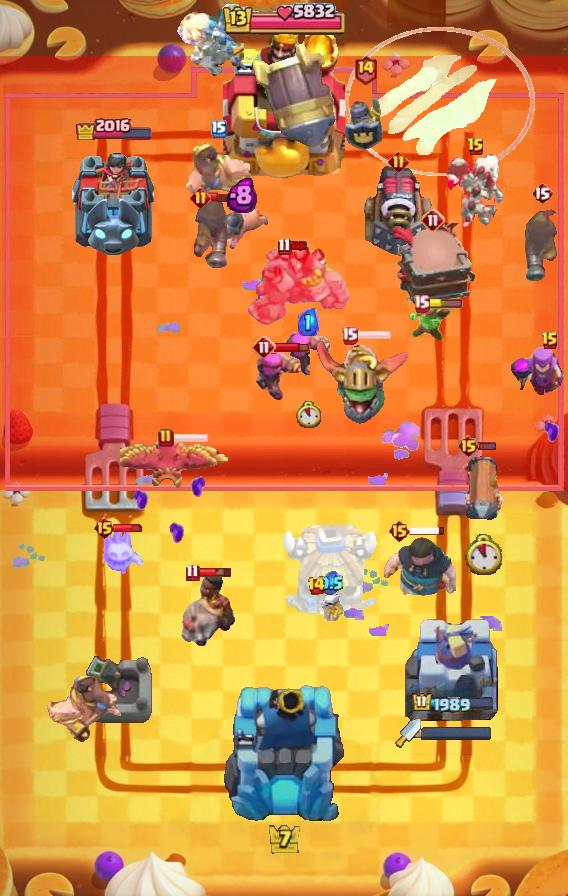bar: (405, 611, 501, 731)
battle-healer: (461, 445, 505, 529)
bomb-tower: (523, 205, 561, 283), (193, 194, 231, 270)
cannoneer-tower: (243, 243, 349, 327)
clock: (221, 0, 347, 40)
dart-goblin: (392, 223, 477, 305)
electro-spirit: (227, 177, 257, 213), (318, 572, 343, 597), (297, 308, 318, 336)
elite-barbarian: (176, 571, 236, 647)
elixir: (466, 534, 503, 575), (295, 401, 320, 428)
emote: (171, 432, 209, 444), (356, 329, 393, 341), (208, 191, 244, 203), (275, 341, 310, 353), (199, 566, 234, 578), (409, 525, 446, 536), (427, 299, 463, 309), (113, 523, 145, 533), (290, 240, 310, 252), (478, 441, 498, 451)
executioner: (216, 202, 268, 252)
freeze: (44, 676, 122, 748), (182, 141, 256, 205)
giant-snowball: (407, 300, 455, 344)
golem: (358, 166, 438, 258)
heal-spirit: (316, 591, 344, 623)
ice-wizard: (345, 27, 535, 176)
king-tower: (223, 27, 345, 181), (221, 682, 347, 826)
king-tower-bar: (421, 726, 493, 740)
mini-pekka: (174, 0, 244, 82), (446, 151, 506, 227)
mirror: (97, 528, 145, 576)
mother-witch: (120, 434, 232, 504)
night-witch: (315, 338, 411, 426)
prince: (280, 525, 382, 621)
princess: (344, 88, 386, 152)
queen-tower: (71, 144, 157, 255)
rascal-girl: (508, 346, 568, 400)
royal-hog: (378, 535, 456, 603)
selected: (74, 115, 154, 140), (411, 692, 495, 715)
text: (353, 55, 378, 85), (421, 208, 445, 232), (252, 335, 276, 359), (457, 434, 480, 458), (93, 516, 116, 540), (388, 519, 411, 543), (531, 181, 553, 205), (190, 187, 211, 209), (387, 152, 408, 173), (306, 576, 326, 596), (467, 137, 485, 157), (541, 331, 559, 351), (341, 327, 359, 345), (414, 295, 431, 314), (158, 428, 174, 448), (211, 120, 227, 138), (277, 237, 291, 256), (185, 563, 199, 581)
tombstone: (254, 349, 304, 403), (284, 323, 331, 379)
x-bow: (252, 42, 336, 150)
